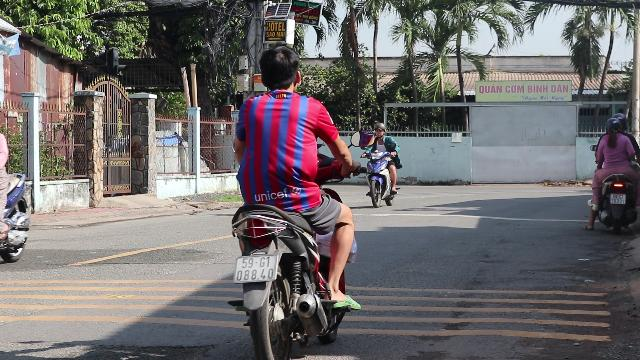helmet: (604, 118, 620, 138)
licenseplate: (234, 255, 278, 283), (610, 194, 626, 204)
motorcyclist: (221, 46, 365, 356), (584, 113, 640, 235)
nohelmet: (256, 45, 302, 95)
